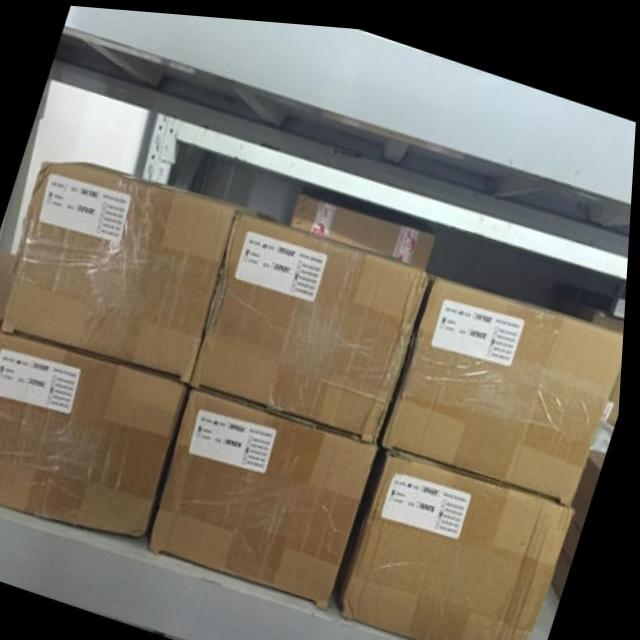box: (3, 160, 279, 383), (383, 267, 627, 494), (194, 207, 434, 436), (151, 380, 382, 603), (337, 443, 581, 640), (0, 330, 191, 539), (293, 184, 439, 263), (557, 439, 610, 587), (576, 292, 628, 322), (0, 248, 19, 327), (606, 350, 626, 414)
